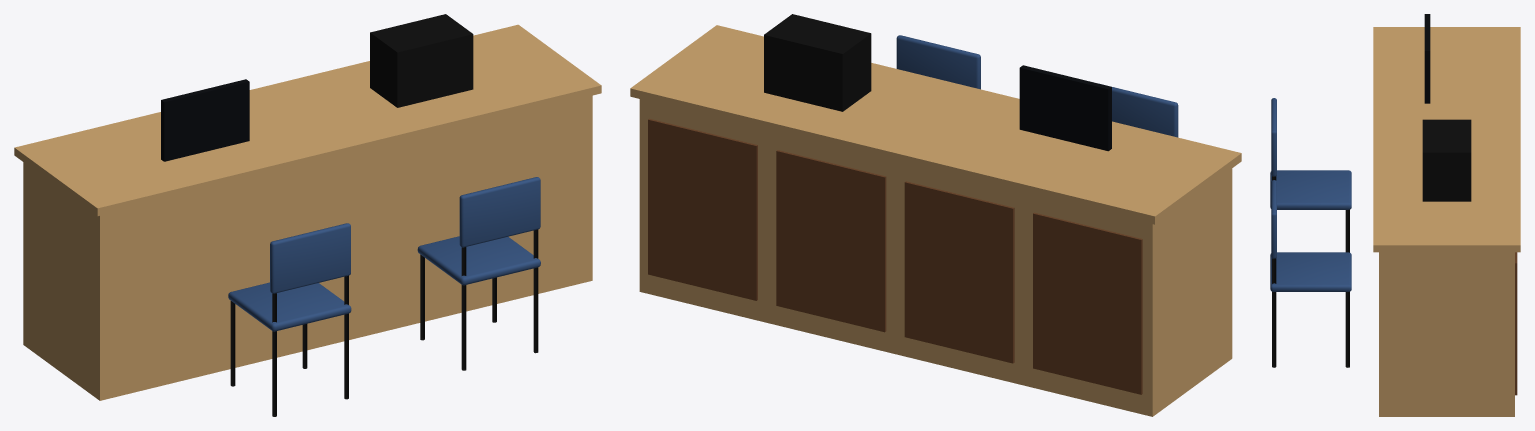
File: justice.court.clerk_desk.glb
3 views of the same model, side by side, from view 1: azimuth 30°, elevation 25°; view 2: azimuth 150°, elevation 25°; view 3: azimuth 270°, elevation 25° (orthographic). The views are drawn at different scales.
Visible parts, largest first — view 1: main__glulam, chairs__fabric_blue, main__plastic_black, main__screen, chairs__plastic_black; view 2: main__glulam, main__hardwood, main__plastic_black, main__screen, chairs__fabric_blue; view 3: main__glulam, chairs__fabric_blue, main__plastic_black, chairs__plastic_black, main__screen, main__hardwood.
Part boxes in pixels (bbox=[...]): main__glulam: bbox=[14, 24, 601, 400]; chairs__fabric_blue: bbox=[228, 177, 540, 331]; main__plastic_black: bbox=[370, 14, 473, 107]; main__screen: bbox=[161, 79, 249, 161]; chairs__plastic_black: bbox=[230, 229, 538, 416]; main__glulam: bbox=[630, 25, 1241, 416]; main__hardwood: bbox=[648, 118, 1142, 394]; main__plastic_black: bbox=[764, 14, 871, 111]; main__screen: bbox=[1019, 65, 1111, 151]; chairs__fabric_blue: bbox=[896, 35, 1178, 137]; main__glulam: bbox=[1373, 27, 1520, 416]; chairs__fabric_blue: bbox=[1270, 98, 1351, 291]; main__plastic_black: bbox=[1422, 119, 1471, 201]; chairs__plastic_black: bbox=[1272, 176, 1349, 367]; main__screen: bbox=[1424, 14, 1430, 103]; main__hardwood: bbox=[1515, 252, 1517, 395].
Bounding box in the file's own units: 2.66 × 1.3 × 1.29.
